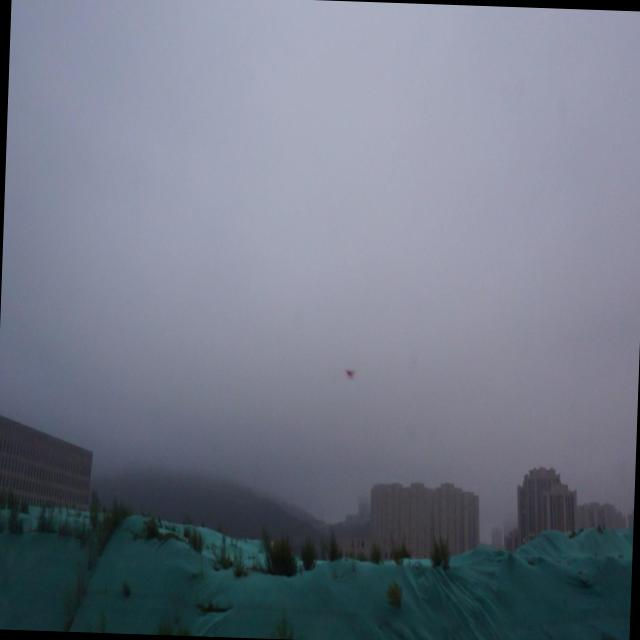drone: (344, 362, 356, 386)
